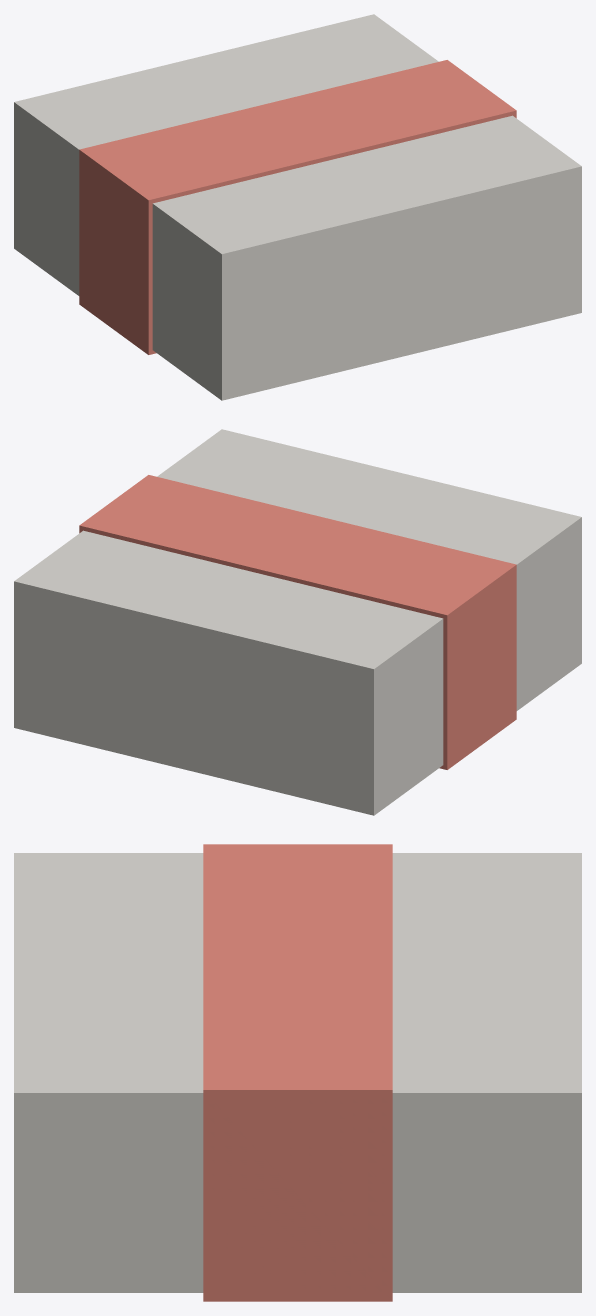
Rendered from item_46_instant_noodles.glb.
The picture shows the model from 3 angles, top to bottom: view 1: azimuth 30°, elevation 25°; view 2: azimuth 150°, elevation 25°; view 3: azimuth 270°, elevation 25°; orthographic projection. The views are drawn at different scales.
Visible parts, largest first — view 1: I46_Block, I46_Band; view 2: I46_Block, I46_Band; view 3: I46_Block, I46_Band.
Part boxes in pixels (bbox=[...]): I46_Block: bbox=[14, 14, 581, 400]; I46_Band: bbox=[79, 60, 516, 354]; I46_Block: bbox=[14, 429, 581, 815]; I46_Band: bbox=[79, 475, 516, 769]; I46_Block: bbox=[14, 853, 581, 1292]; I46_Band: bbox=[203, 844, 392, 1301].
Bounding box in the file's own units: 0.092 × 0.037 × 0.09.
